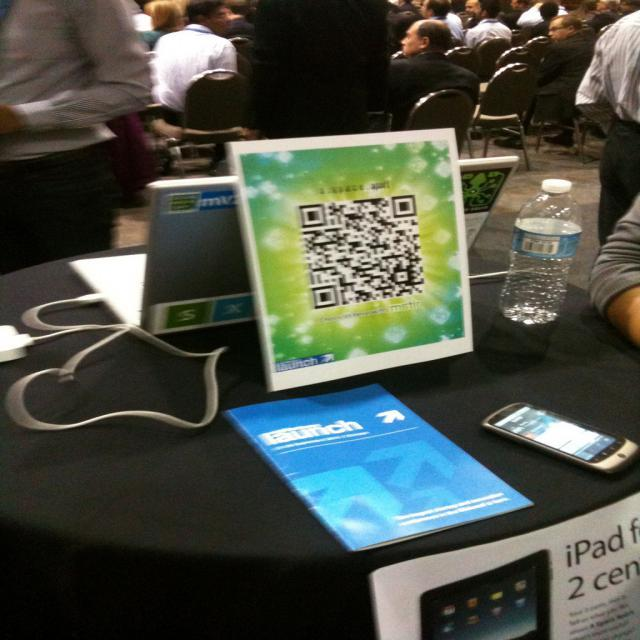qrcode: (299, 195, 426, 310)
